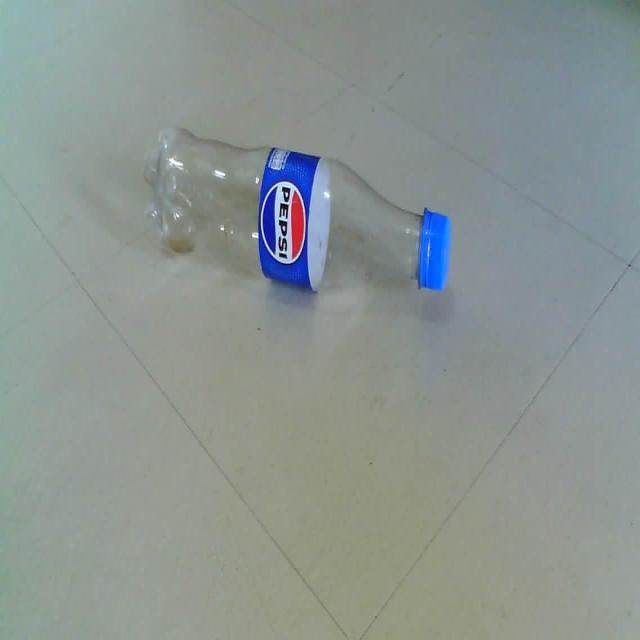empty: (144, 128, 450, 292)
